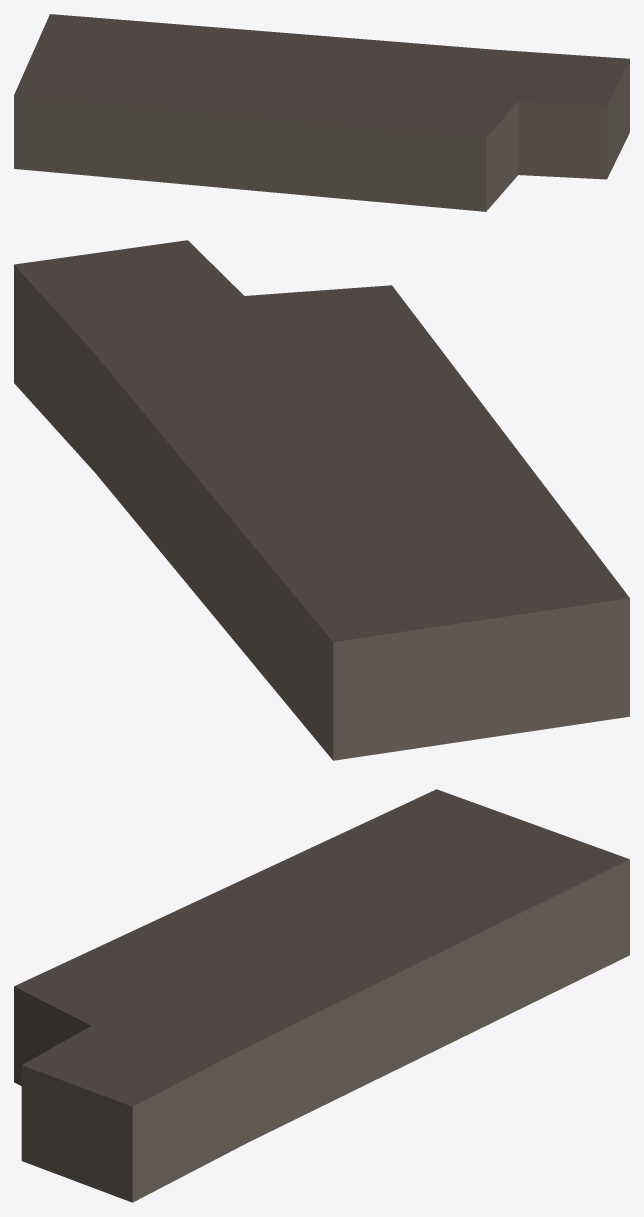
3 views of the same model, one above another, from view 1: azimuth 30°, elevation 25°; view 2: azimuth 150°, elevation 25°; view 3: azimuth 270°, elevation 25° (orthographic). The views are drawn at different scales.
Parts seen in each view (by area): view 1: HP-w694630324; view 2: HP-w694630324; view 3: HP-w694630324.
Part boxes in pixels (x1,y1,x2,y2): HP-w694630324: (14, 14, 629, 211); HP-w694630324: (14, 240, 629, 760); HP-w694630324: (14, 789, 629, 1202).
Size of the model in its own units: 21.29 by 3 by 17.45.
